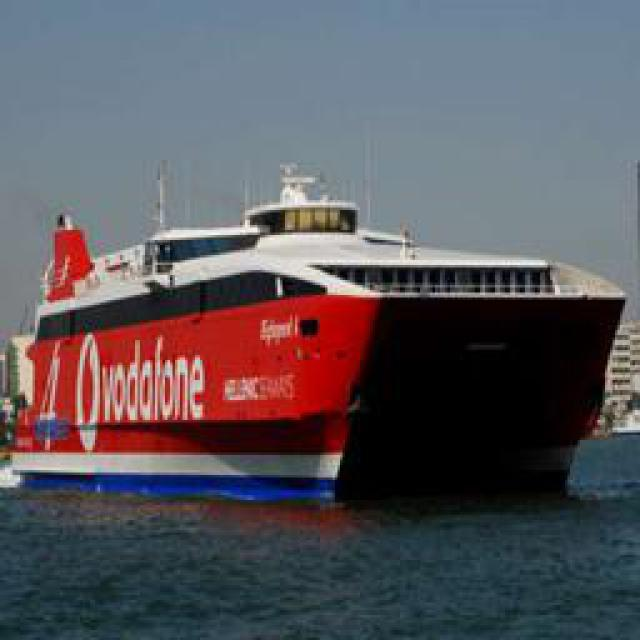Ship: (13, 160, 631, 508)
